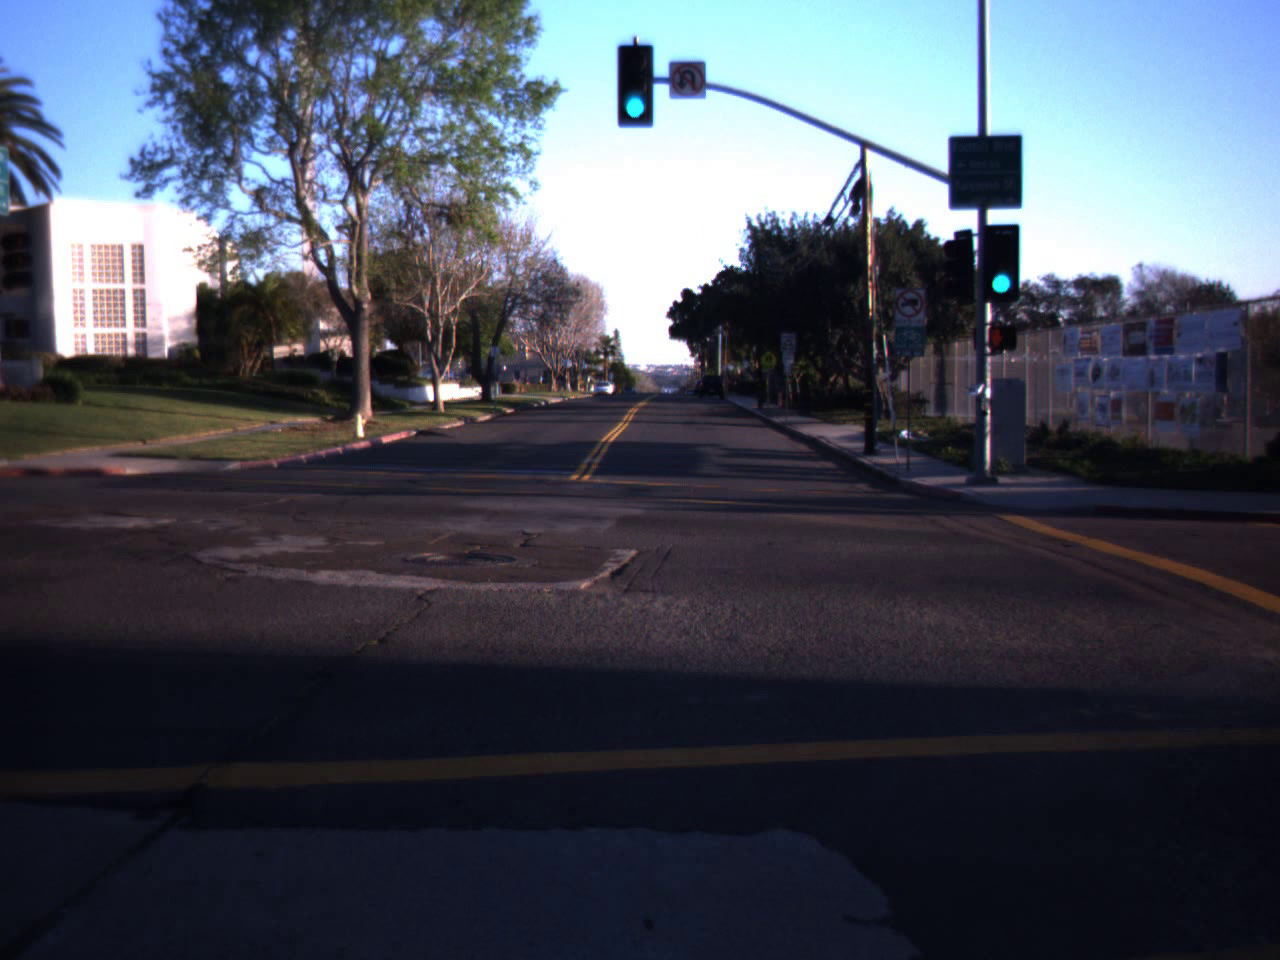go: (611, 31, 659, 126), (977, 222, 1025, 302)
